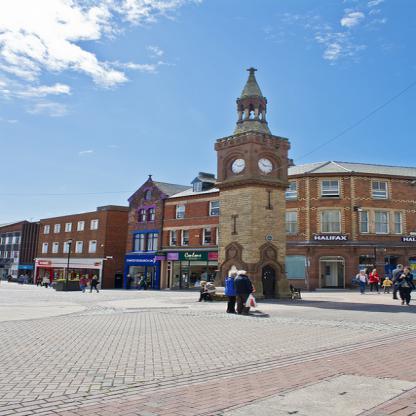handbag: (244, 295, 258, 307), (365, 275, 369, 287)
